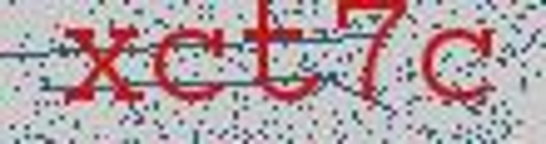7: (329, 1, 408, 115)
c: (421, 14, 504, 124), (146, 13, 236, 106)
t: (237, 1, 327, 117)
x: (51, 17, 150, 113)
